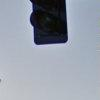Traffic light: (22, 2, 77, 50)
